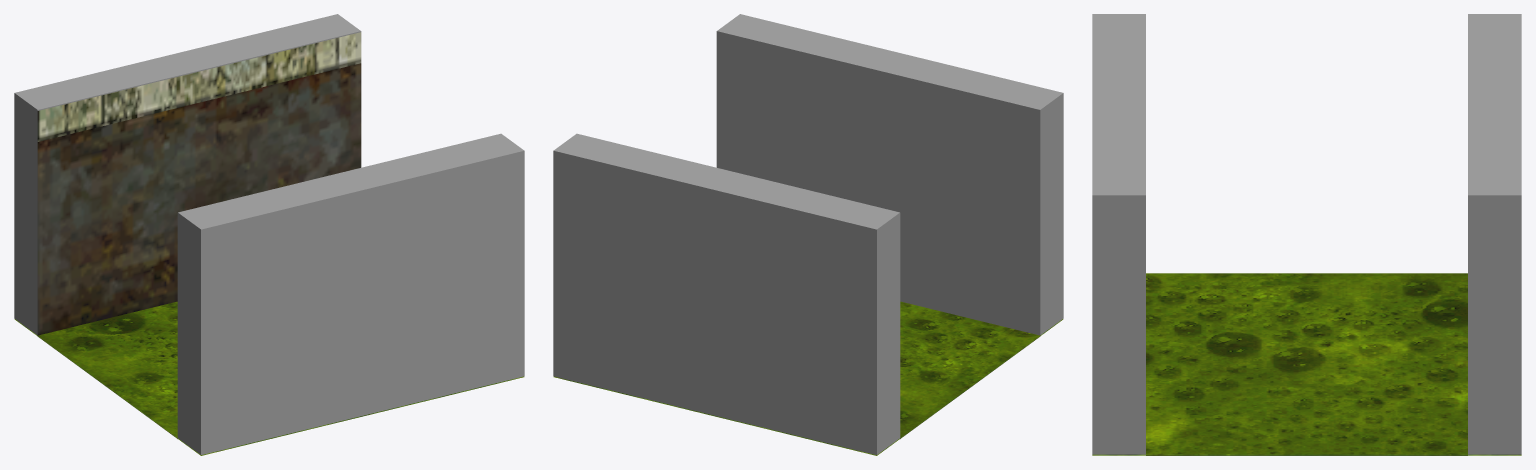
The model's file is sewerDeepStraight.fbx.
3 renders of one model, left to right at view 1: azimuth 30°, elevation 25°; view 2: azimuth 150°, elevation 25°; view 3: azimuth 270°, elevation 25°, orthographic. The views are drawn at different scales.
Parts seen in each view (by area): view 1: mvcv_obb_sewerDeepStraightQ_02, sewerDeepStraightQ, mvcv_obb_sewerDeepStraightQ_01, waterPlaneC06, waterPlaneB06, waterPlaneA06; view 2: mvcv_obb_sewerDeepStraightQ_01, mvcv_obb_sewerDeepStraightQ_02, waterPlaneC06, waterPlaneB06, waterPlaneA06; view 3: waterPlaneC06, mvcv_obb_sewerDeepStraightQ_01, mvcv_obb_sewerDeepStraightQ_02, waterPlaneA06.
Part boxes in pixels (bbox=[...]): mvcv_obb_sewerDeepStraightQ_02: bbox=[177, 133, 524, 454]; sewerDeepStraightQ: bbox=[37, 32, 361, 438]; mvcv_obb_sewerDeepStraightQ_01: bbox=[14, 14, 361, 335]; waterPlaneC06: bbox=[38, 301, 177, 437]; waterPlaneB06: bbox=[15, 319, 523, 455]; waterPlaneA06: bbox=[15, 319, 523, 455]; mvcv_obb_sewerDeepStraightQ_01: bbox=[553, 133, 900, 454]; mvcv_obb_sewerDeepStraightQ_02: bbox=[716, 14, 1063, 335]; waterPlaneC06: bbox=[900, 301, 1039, 437]; waterPlaneB06: bbox=[554, 319, 1062, 455]; waterPlaneA06: bbox=[554, 319, 1062, 455]; waterPlaneC06: bbox=[1146, 273, 1467, 454]; mvcv_obb_sewerDeepStraightQ_01: bbox=[1468, 14, 1521, 454]; mvcv_obb_sewerDeepStraightQ_02: bbox=[1092, 14, 1145, 454]; waterPlaneA06: bbox=[1092, 454, 1521, 455].
Size of the model in its own units: 300 by 201 by 300.
Materials: 4 (3 with a texture image).
